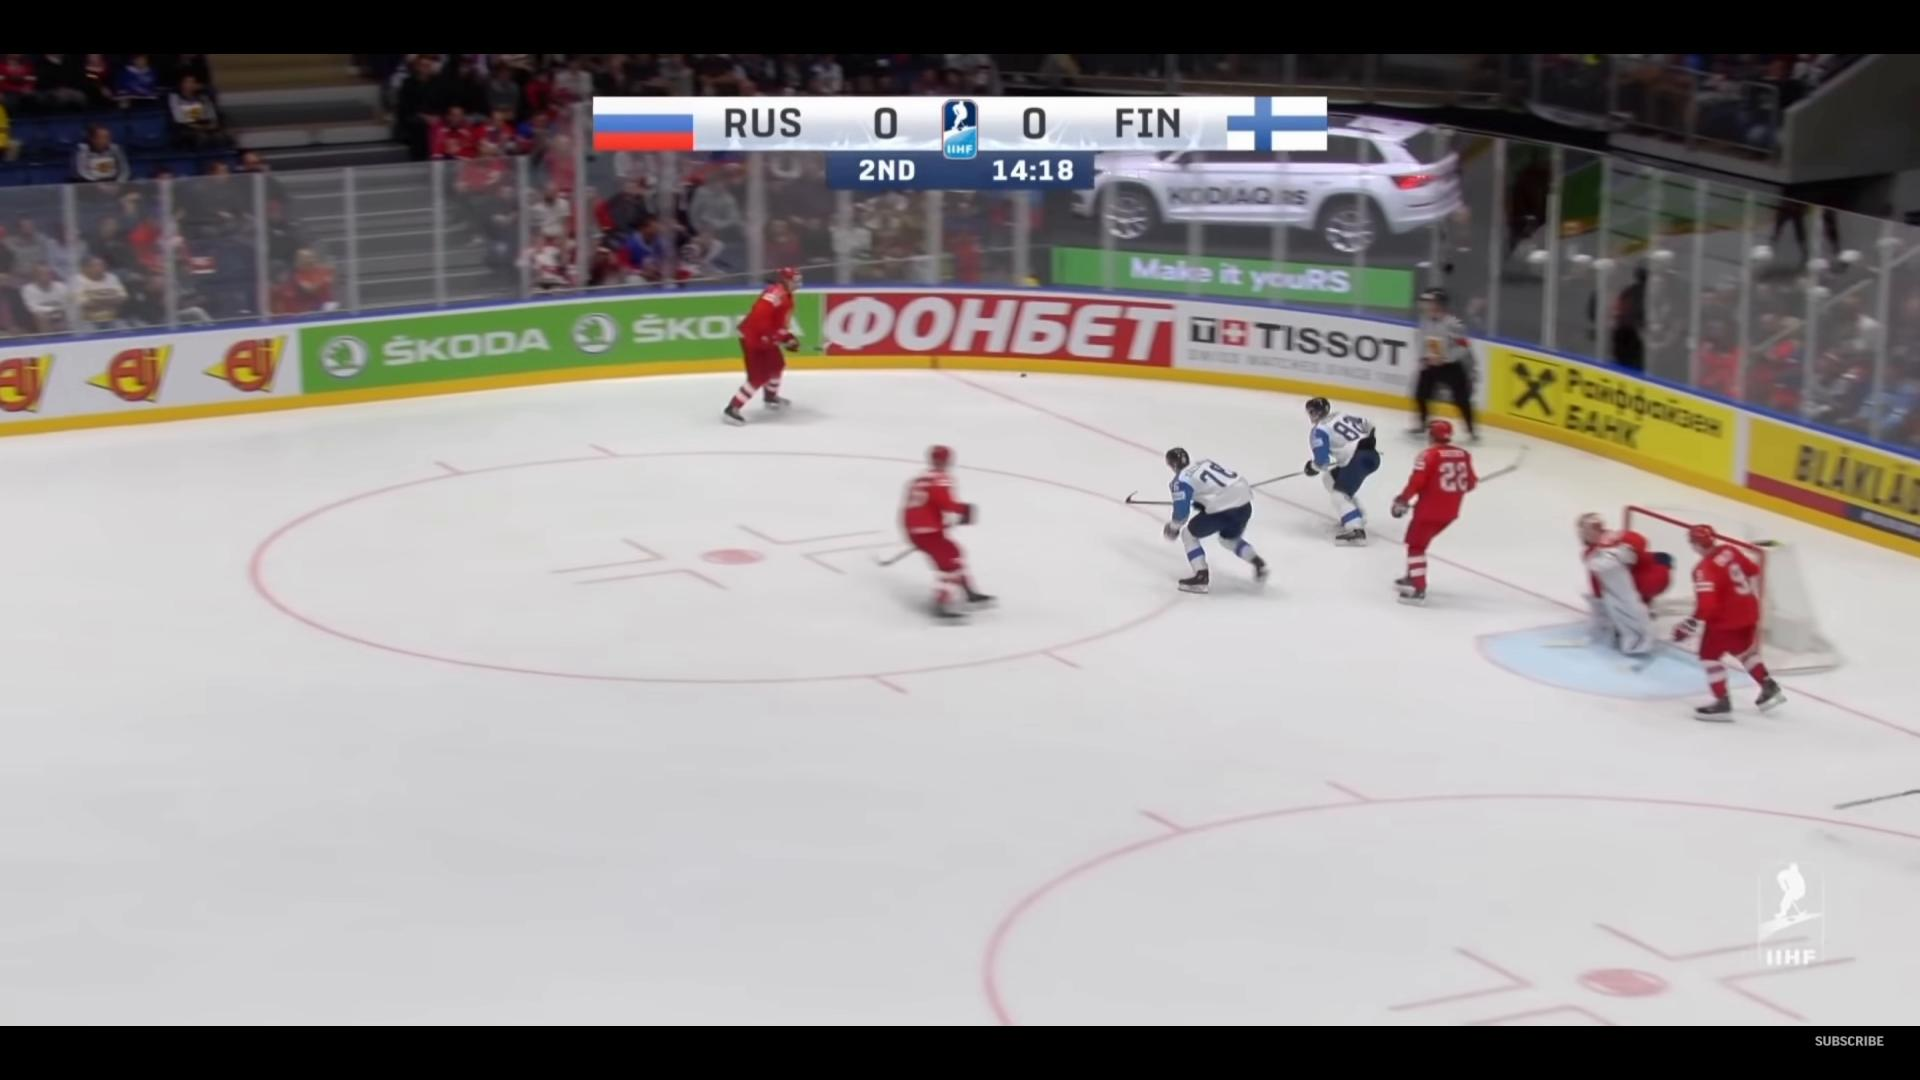puck: (1018, 372, 1026, 377)
